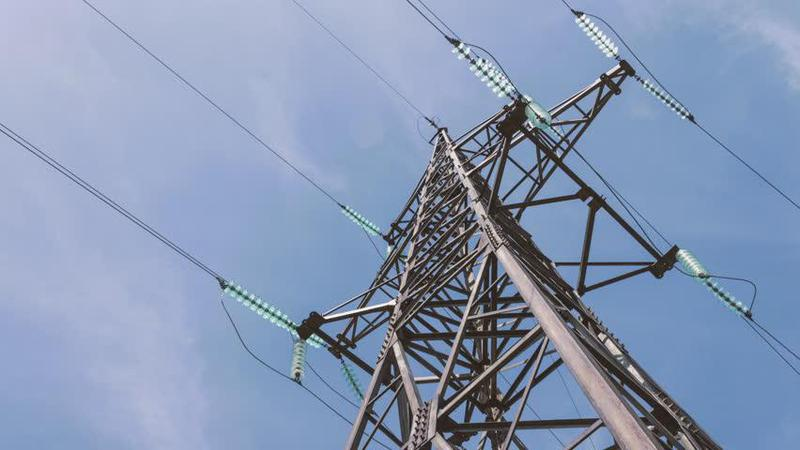gap: (457, 44, 483, 71)
isolator: (221, 279, 325, 348), (451, 42, 513, 98), (573, 12, 619, 60), (638, 77, 689, 119), (703, 276, 749, 316), (339, 204, 381, 237), (338, 360, 364, 399), (677, 248, 707, 281), (288, 341, 307, 380), (525, 101, 550, 130)
